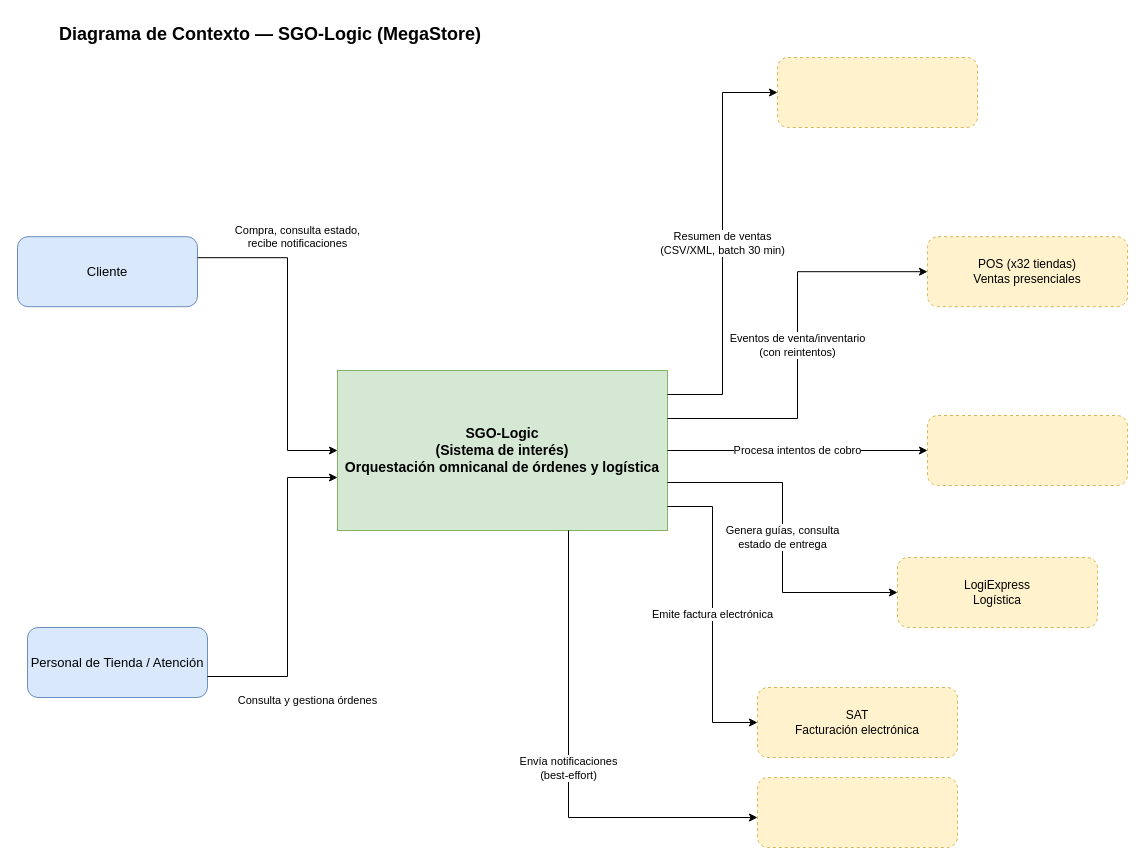
This 1145x865 diagram has some shape labels left out. The shapes that lost their labels are listed below. From the top down, each one's centre as x and y in pixels, then its label:
(877,92): ERP-Core (AS/400) Contable-fiscal
(1027,450): PayKlik Pasarela de pago
(857,812): Proveedor de Notificaciones SMS / correo / push
